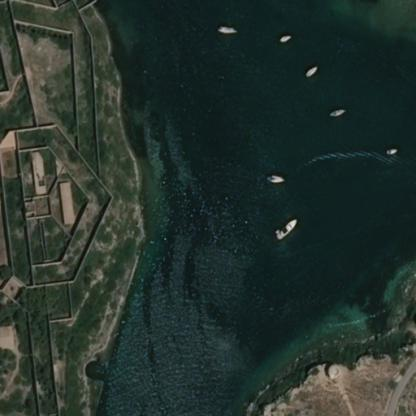ship: (274, 216, 296, 241), (263, 172, 284, 183), (326, 106, 346, 117), (216, 24, 237, 34), (304, 64, 318, 77), (278, 31, 291, 44), (384, 144, 398, 154)
